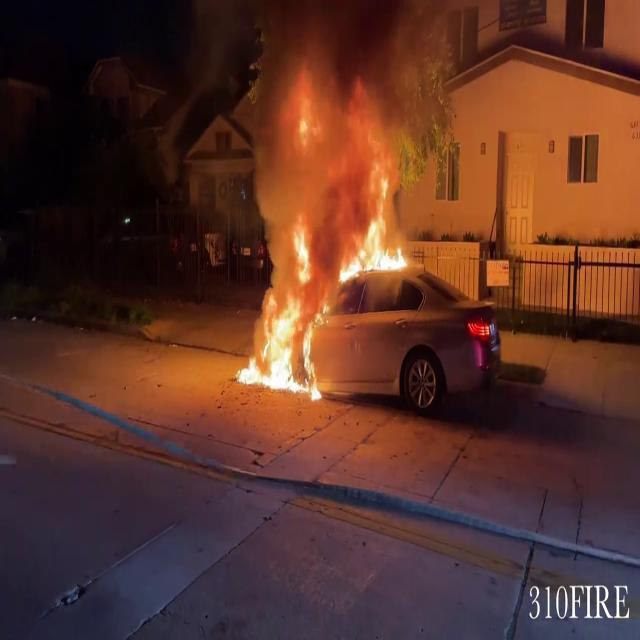Fire: (234, 226, 342, 396), (338, 179, 403, 280)
Smoke: (258, 1, 444, 242)
